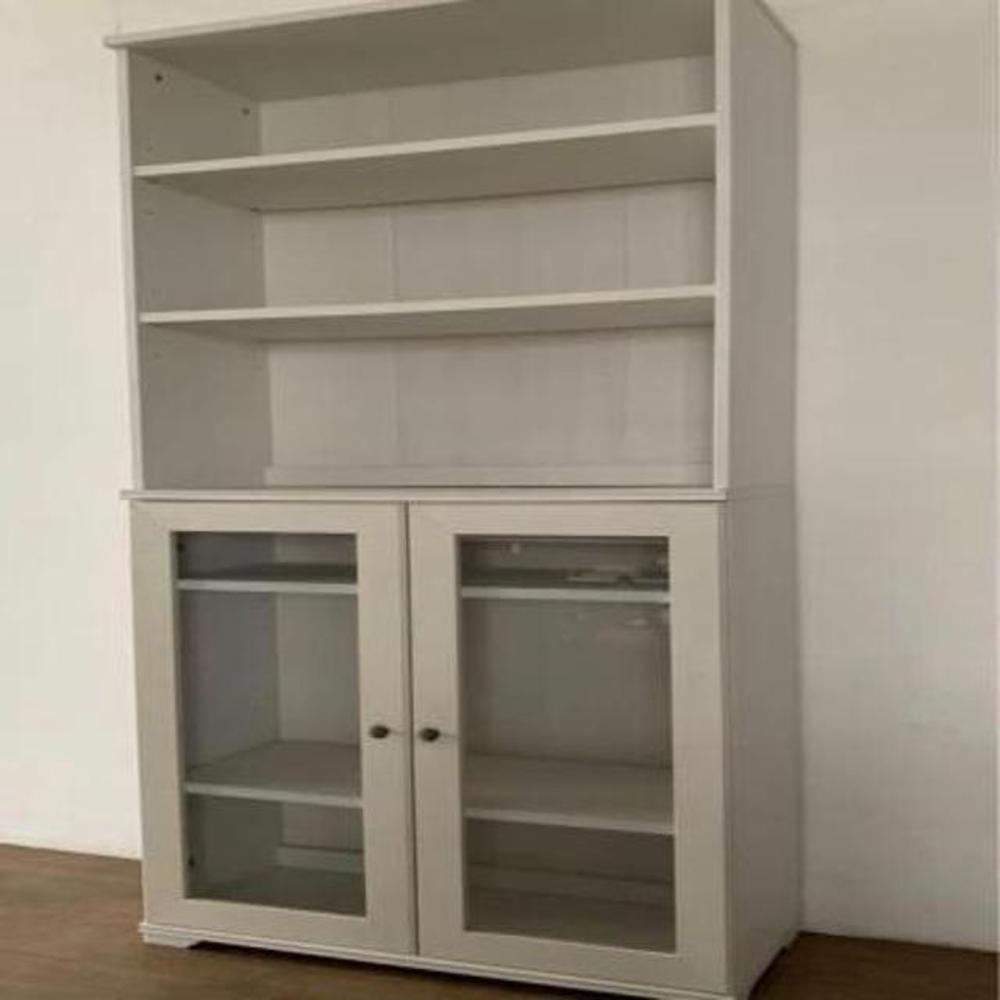lamp: (93, 1, 816, 999)
